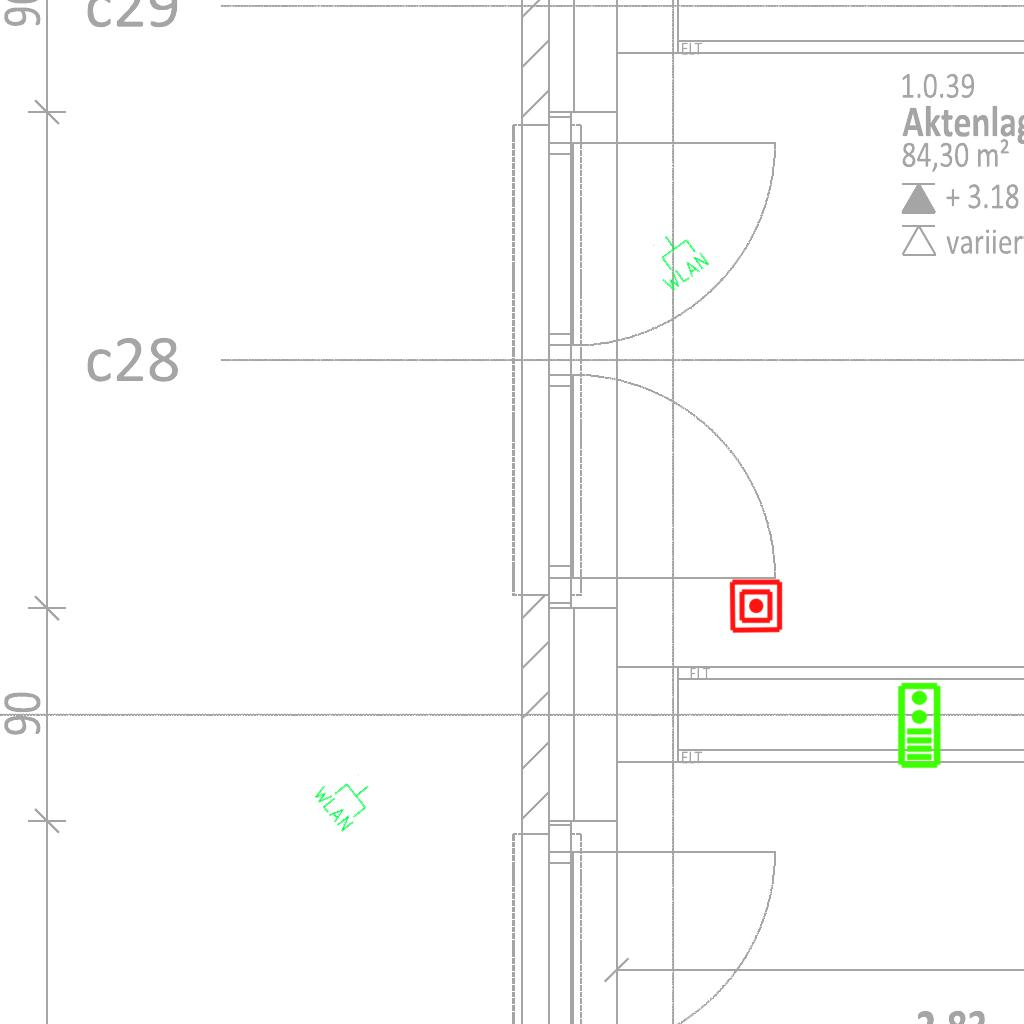Gegensprechanlage_mit_Video: (895, 681, 942, 769)
NAM-Nichtautomatischer_Melder: (728, 578, 784, 634)
WLAN: (309, 761, 383, 835), (639, 222, 713, 296)
